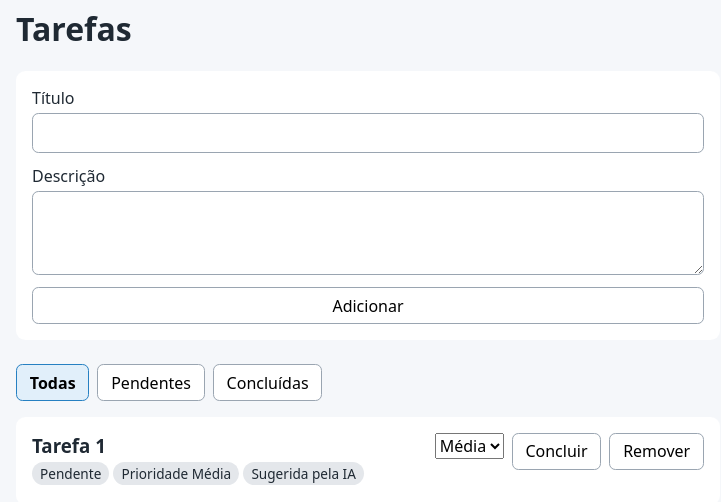
Test: App › edita a prioridade e passa a mostrar 'Definida por você'
Expected: the heading "Tarefa 1" is shown, [32,433,106,458]
Select "Alta" in the dropdown named "alterar prioridade" at (469, 446), box [435,433,504,459]
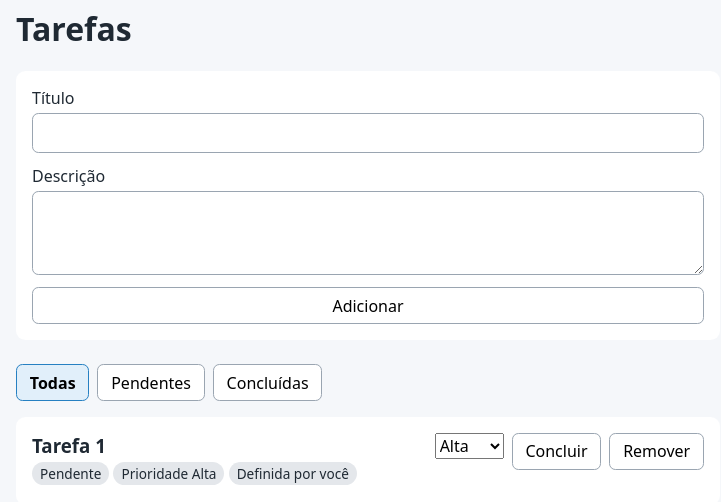
Expected: the text "Definida por você" is shown, [229,462,357,485]
Expected: the text "Prioridade Alta" is shown, [114,462,224,485]
